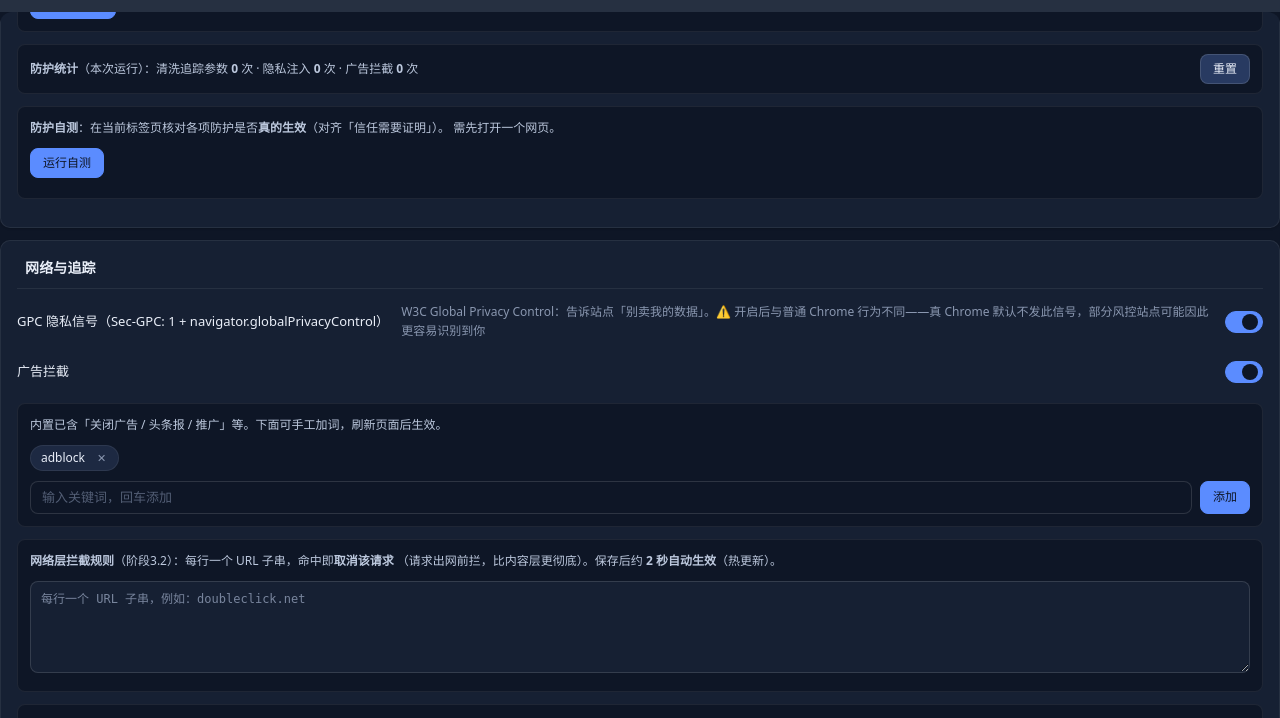
Scenario: 自定义广告关键词 › 挂载后加载关键词；添加去重；保存成功提示
(page scrolled)
Expected: the number of elements with class "kw-chip" is 1, [30,444,119,470]
Type "adblock" into the field with placeholder "输入关键词，回车添加".
click(611, 497); type("adblock")  # box [30,480,1192,514]
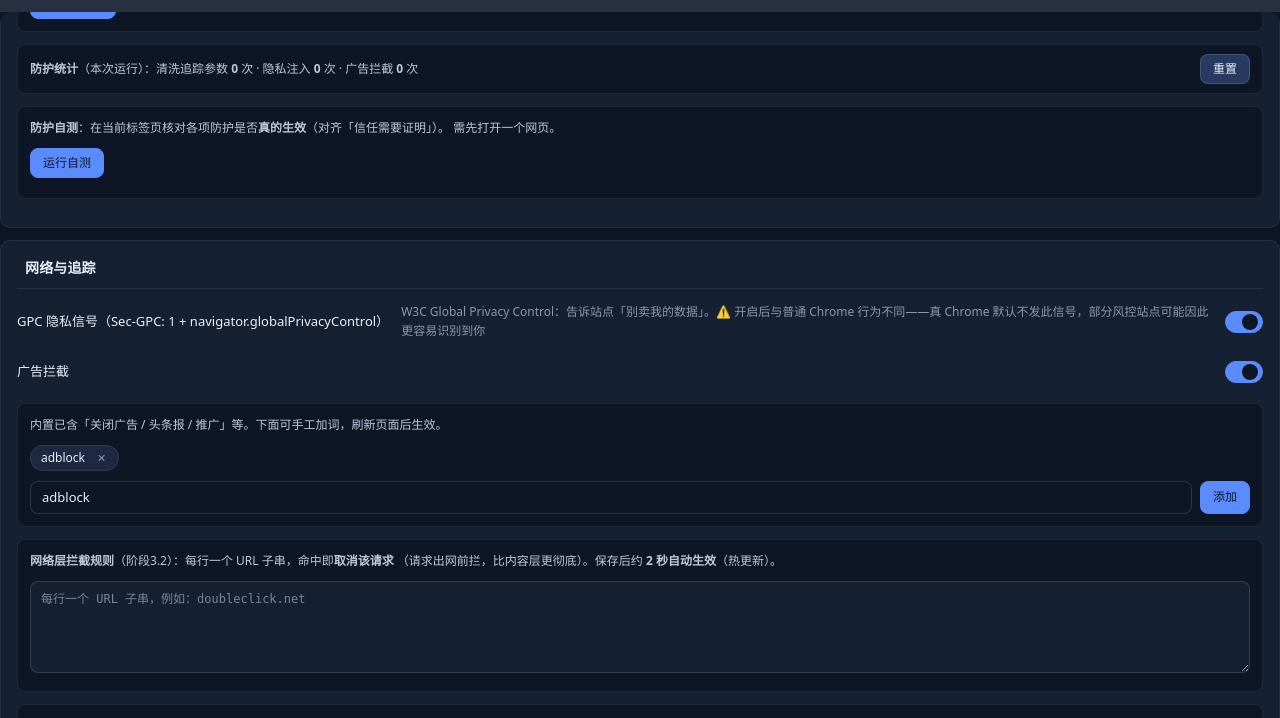
Press Enter in the field, box [30,480,1192,514]
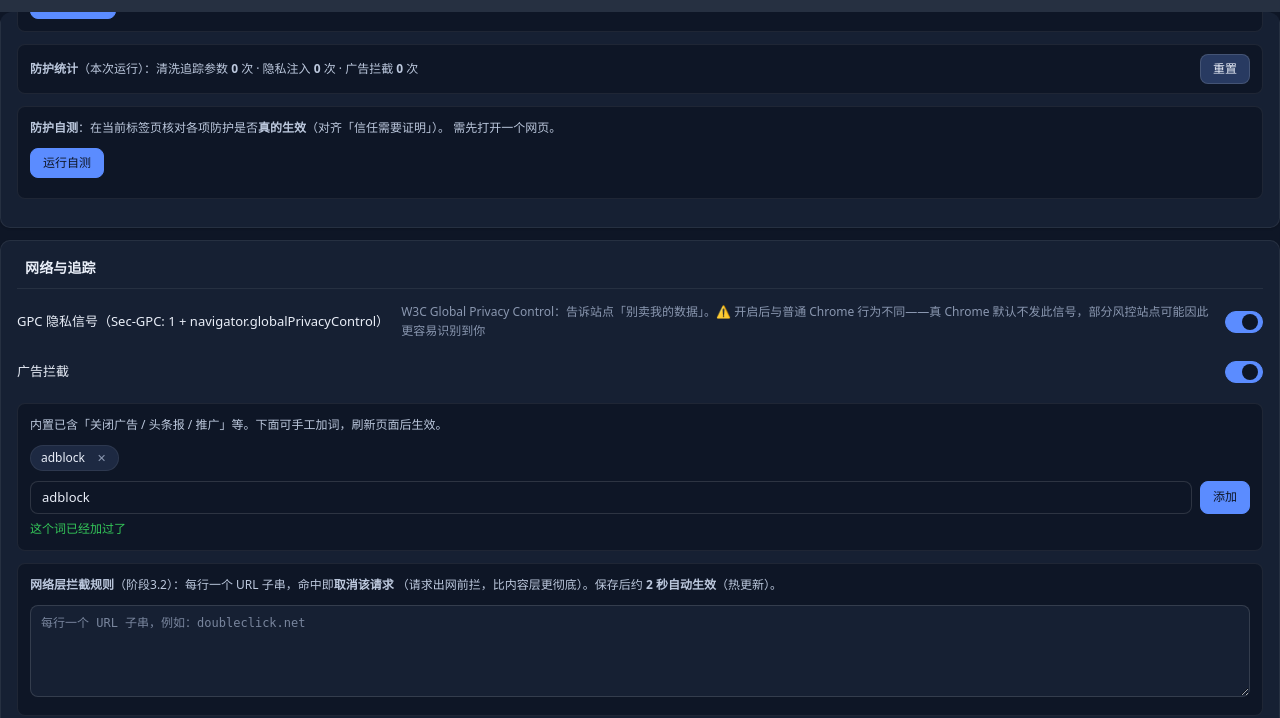
Expected: the text with class "cleared-msg" shows "已经加过", [30,520,126,537]
